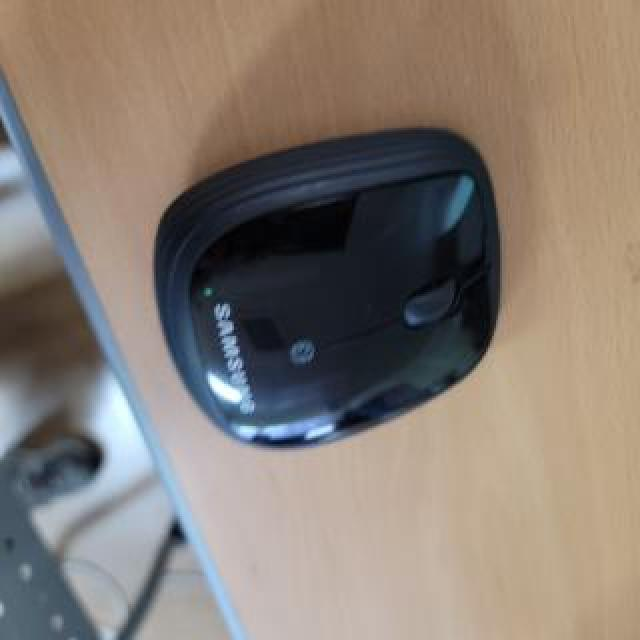mouse: (146, 94, 525, 452)
